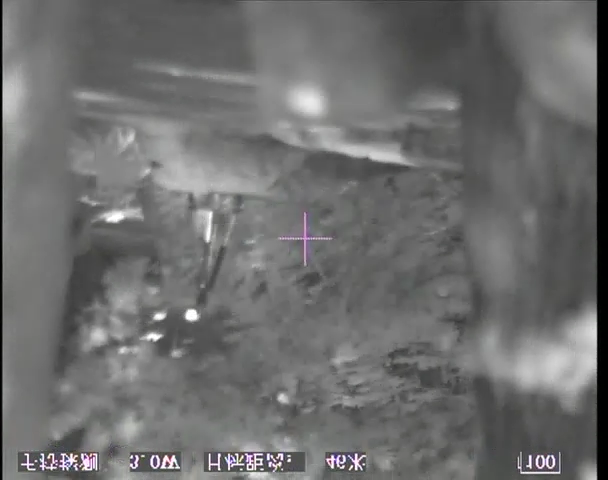my: (184, 308, 199, 323)
